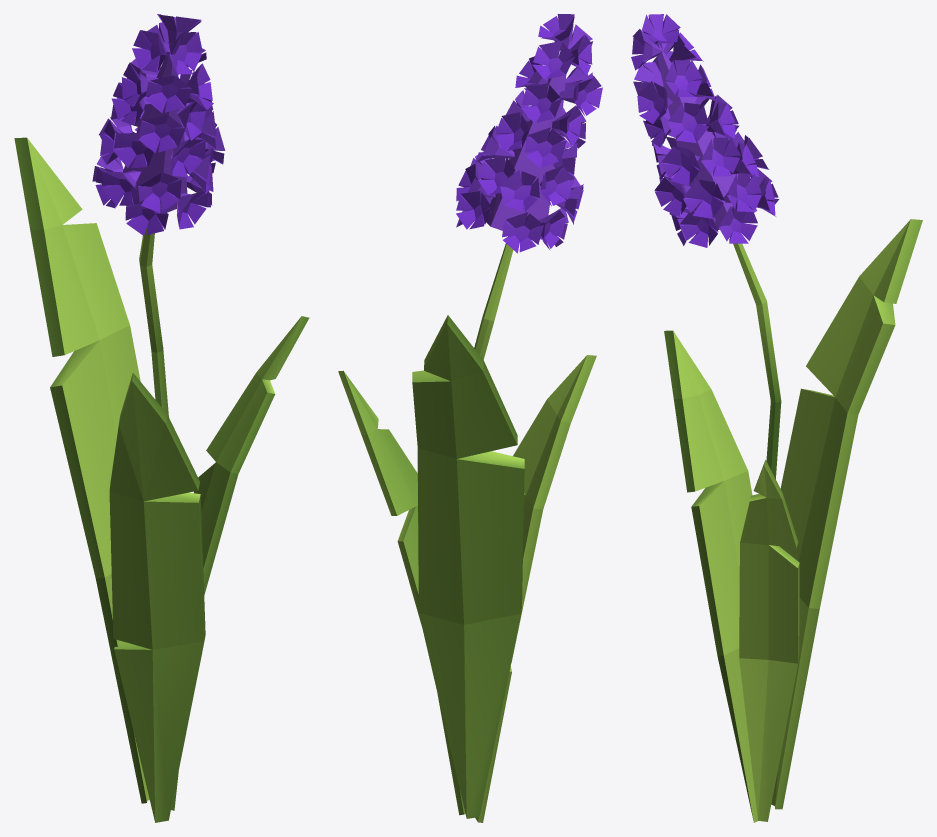
File: dm11.flower.v3.01.glb
3 renders of one model, left to right at view 1: azimuth 30°, elevation 25°; view 2: azimuth 150°, elevation 25°; view 3: azimuth 270°, elevation 25°, orthographic. The views are drawn at different scales.
Parts seen in each view (by area): view 1: PP_Hyacinth_04.001_PP_Standard_Material_0; view 2: PP_Hyacinth_04.001_PP_Standard_Material_0; view 3: PP_Hyacinth_04.001_PP_Standard_Material_0.
Part boxes in pixels (bbox=[...]): PP_Hyacinth_04.001_PP_Standard_Material_0: bbox=[14, 14, 309, 822]; PP_Hyacinth_04.001_PP_Standard_Material_0: bbox=[338, 14, 602, 822]; PP_Hyacinth_04.001_PP_Standard_Material_0: bbox=[631, 14, 922, 822].
Size of the model in its own units: 0.1012 by 0.3521 by 0.1184.
Materials: 1 (1 with a texture image).
